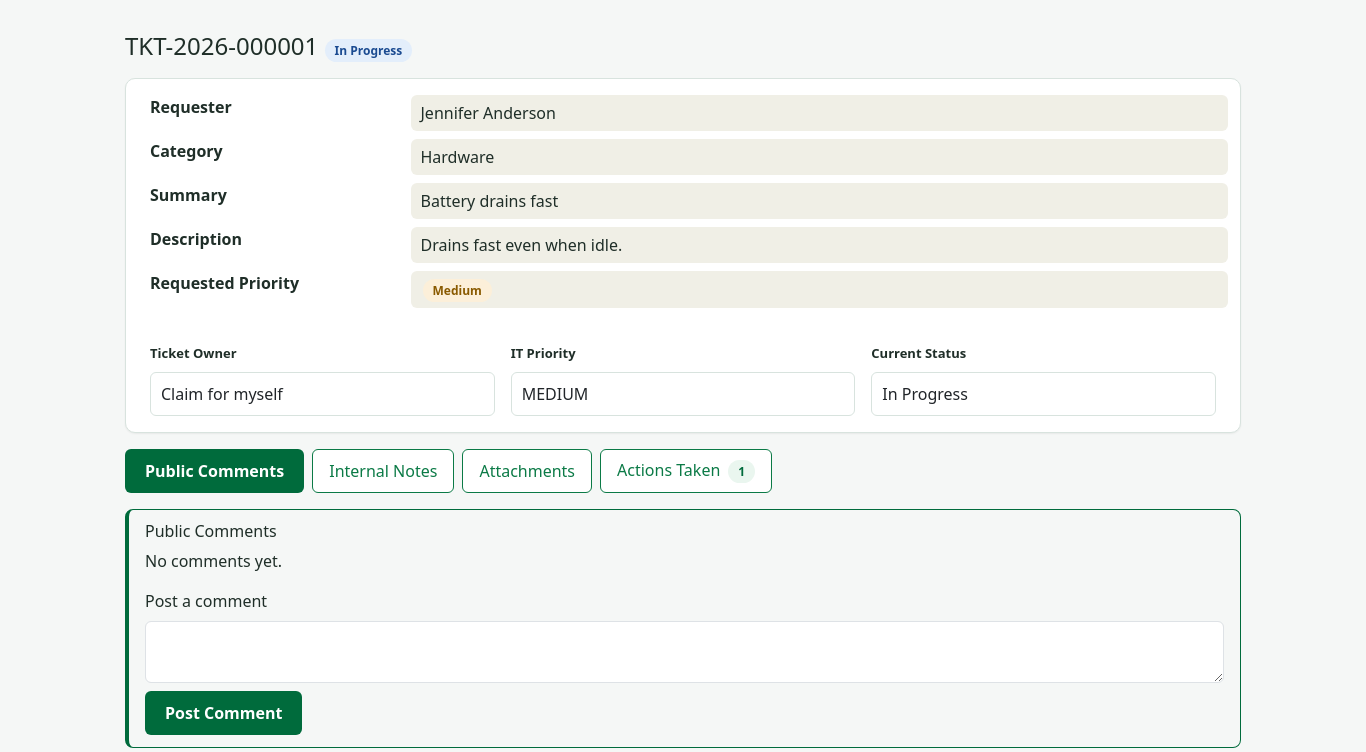
Scenario: Actions Taken on Staff Ticket Detail (UI-01) › disables Edit with the specified tooltip for a staff member who is not the performer
expect the heading "TKT-2026-000001 In Progress" is shown: met, box [125,29,412,62]
Click the tab "Actions Taken 1". click: (686, 471)
box: [600,449,772,493]
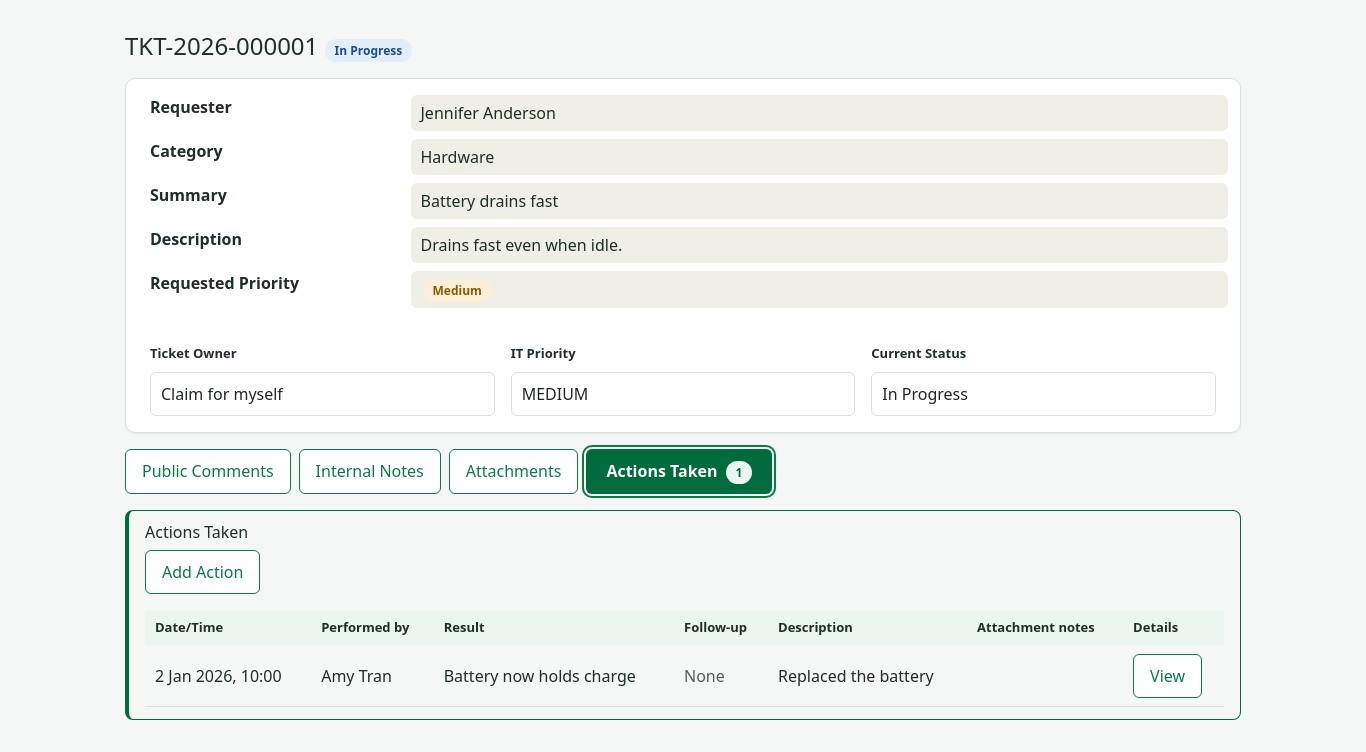
Click the button with aria-label "view action". click: (1168, 676)
box: [1133,654,1202,698]
(page scrolled)
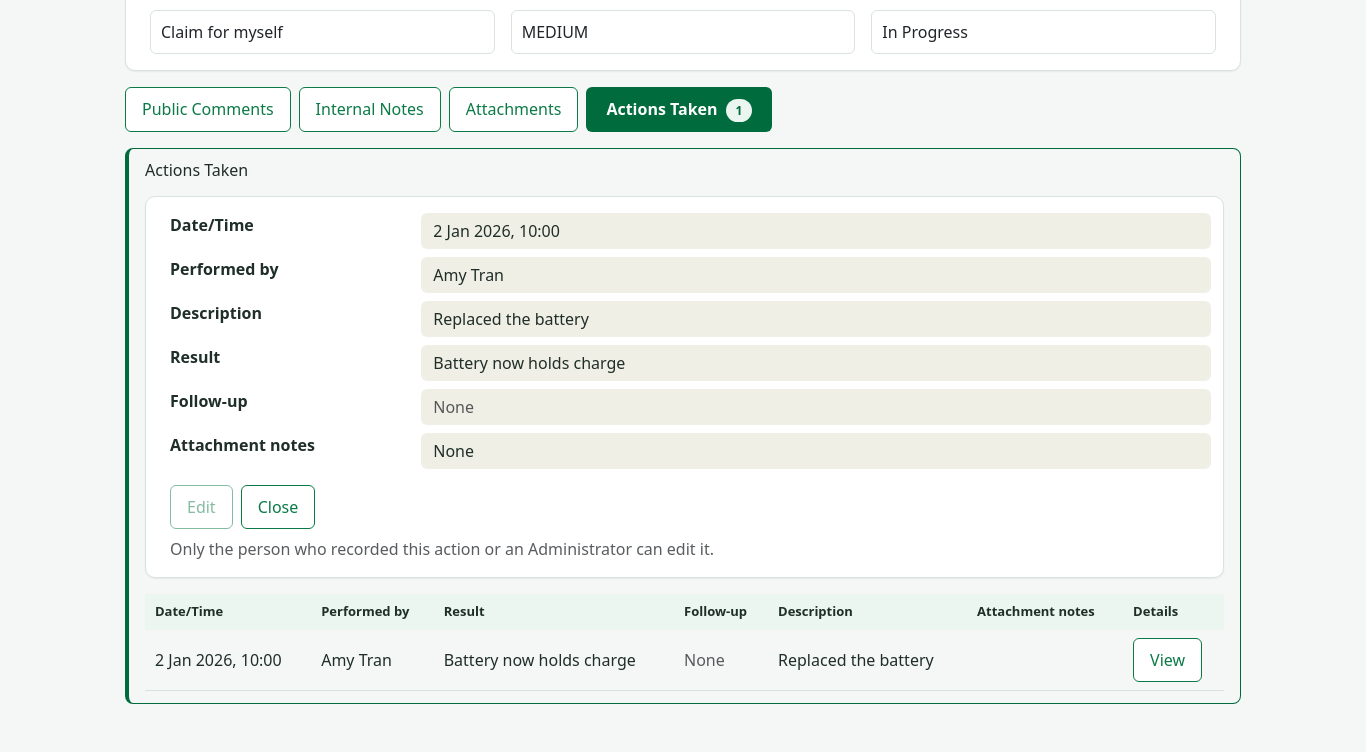
expect the button "Edit" is disabled: met, box [170,485,233,529]
